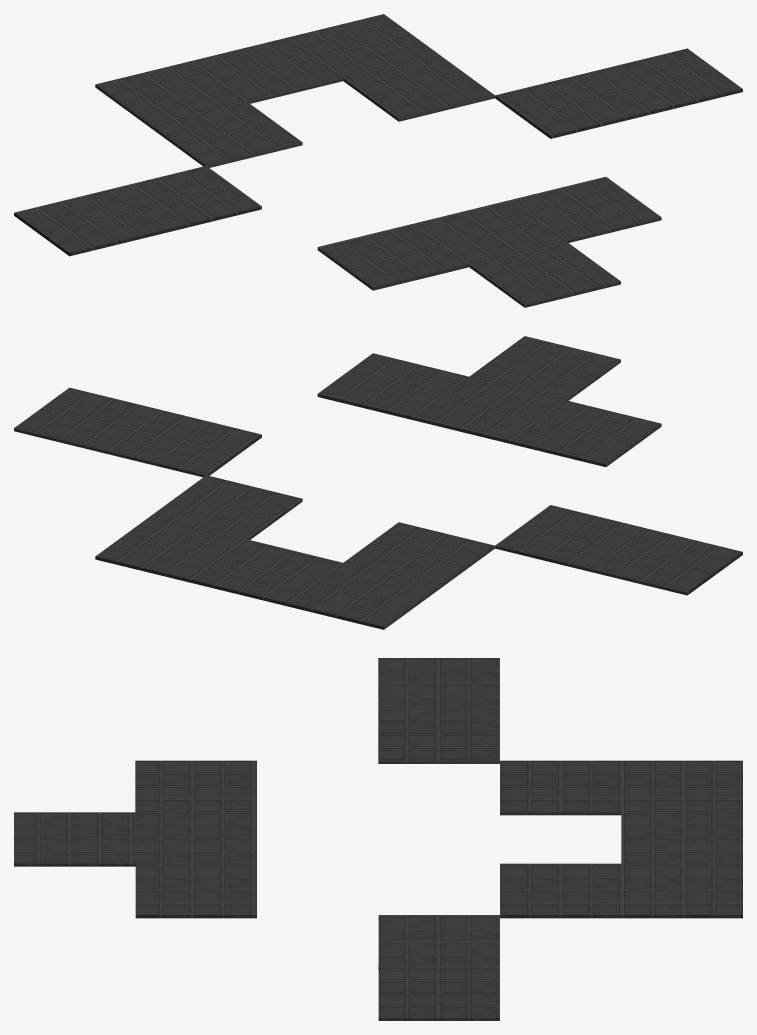
File: Homeworld_Interior_Dq_Room_C_Ceiling_01_Vo.fbx
3 views of the same model, one above another, from view 1: azimuth 30°, elevation 25°; view 2: azimuth 150°, elevation 25°; view 3: azimuth 270°, elevation 25° (orthographic). The views are drawn at different scales.
Visible parts, largest first — view 1: Homeworld_Interior_Dq_Room_C_Ceiling_01_Vo; view 2: Homeworld_Interior_Dq_Room_C_Ceiling_01_Vo; view 3: Homeworld_Interior_Dq_Room_C_Ceiling_01_Vo.
Boxes of the visible parts, bbox=[...] form: Homeworld_Interior_Dq_Room_C_Ceiling_01_Vo: bbox=[14, 14, 742, 307]; Homeworld_Interior_Dq_Room_C_Ceiling_01_Vo: bbox=[14, 336, 742, 629]; Homeworld_Interior_Dq_Room_C_Ceiling_01_Vo: bbox=[14, 658, 742, 1020].
Size of the model in its own units: 35 by 0.15 by 30.
